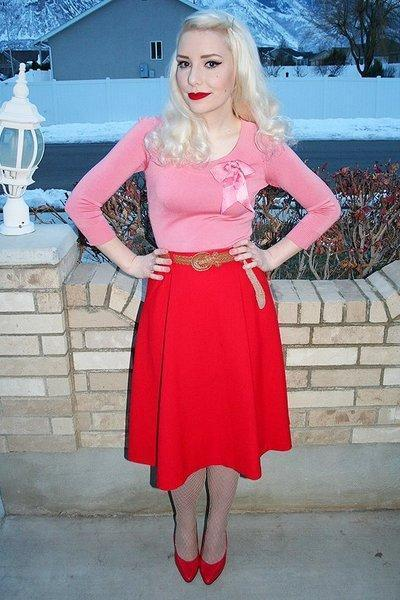shirt: (65, 119, 342, 259)
shoe: (174, 547, 225, 584)
skirt: (131, 262, 291, 490)
